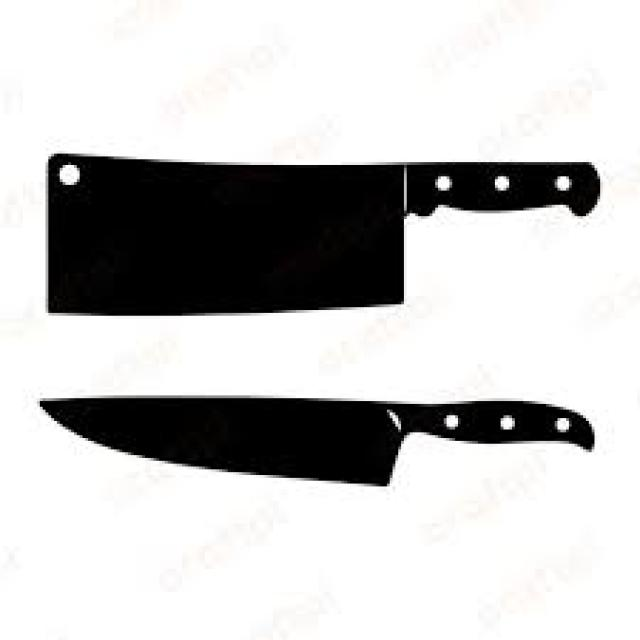Knife: (46, 150, 600, 316), (37, 392, 594, 487)
